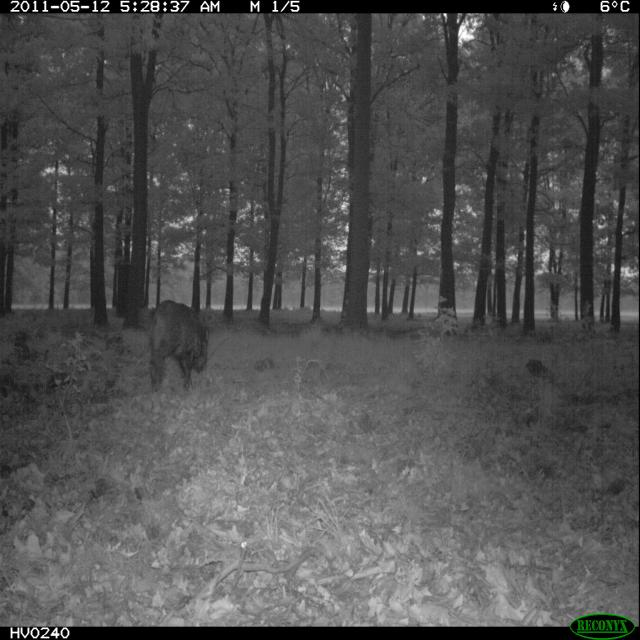boar: (128, 296, 236, 408)
